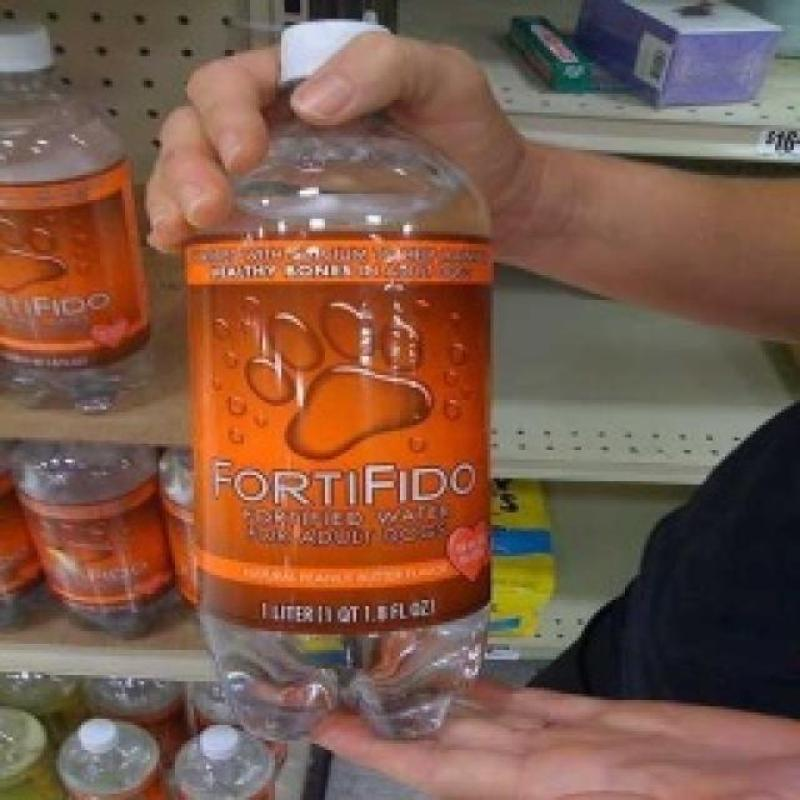botella: (181, 16, 500, 736), (0, 28, 156, 416), (10, 426, 180, 642), (81, 677, 181, 771), (0, 443, 48, 634), (161, 450, 208, 625), (61, 719, 161, 800), (173, 725, 277, 800), (1, 670, 80, 745), (0, 709, 59, 800), (180, 682, 246, 736)
